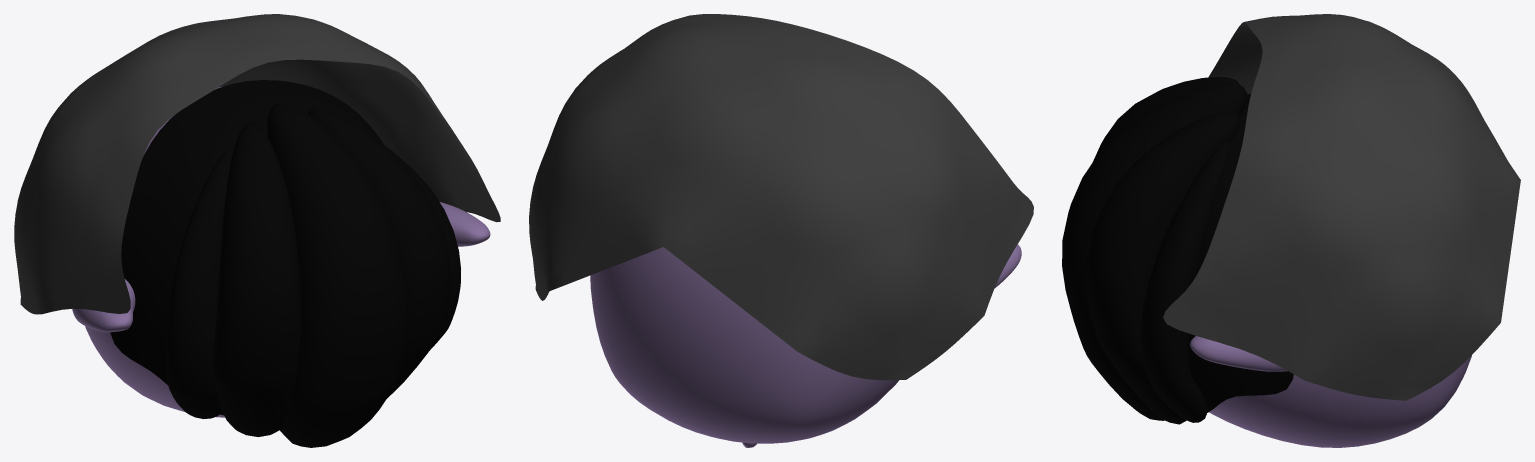
File: vampire 1.fbx
3 renders of one model, left to right at view 1: azimuth 30°, elevation 25°; view 2: azimuth 150°, elevation 25°; view 3: azimuth 270°, elevation 25°, orthographic. The views are drawn at different scales.
Parts seen in each view (by area): view 1: Cube.002; view 2: Cube.002; view 3: Cube.002.
Boxes of the visible parts, <box> form: Cube.002: <box>14,14,500,447</box>; Cube.002: <box>529,14,1033,447</box>; Cube.002: <box>1062,14,1520,447</box>.
Bounding box in the file's own units: 405 × 359 × 377.
